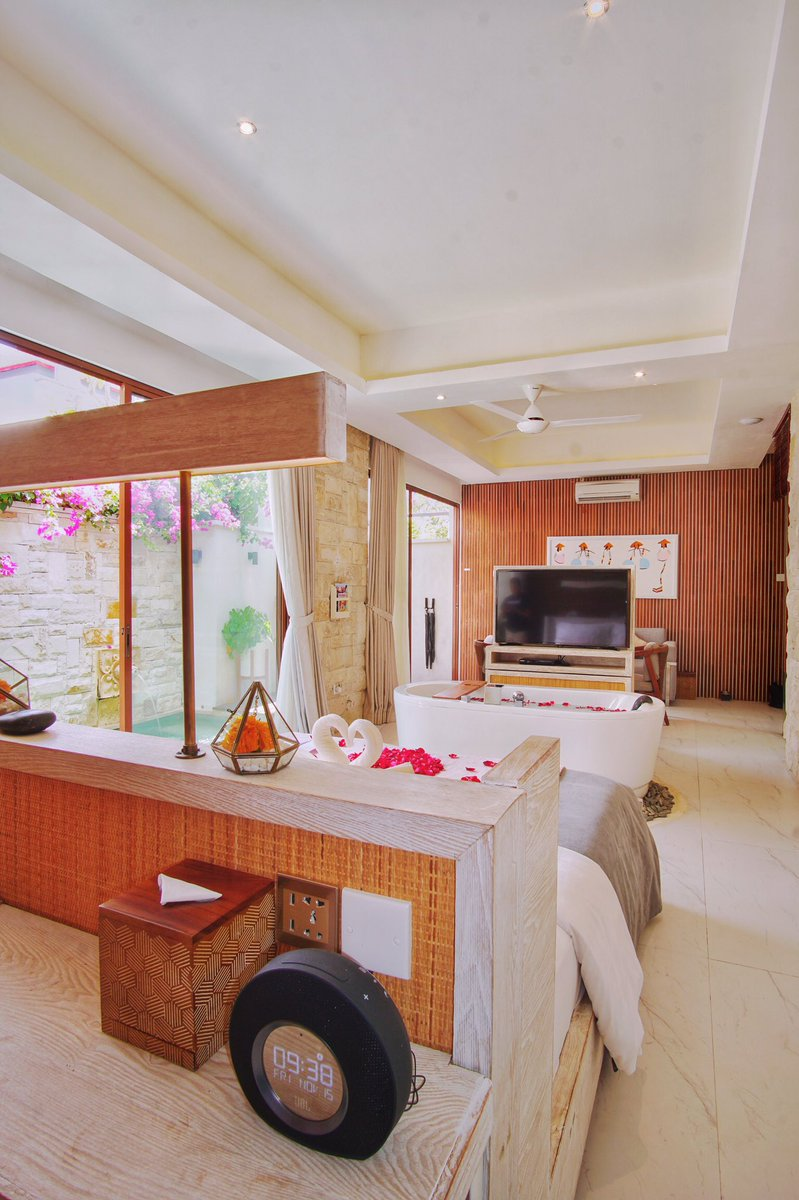tv: (493, 563, 635, 657)
